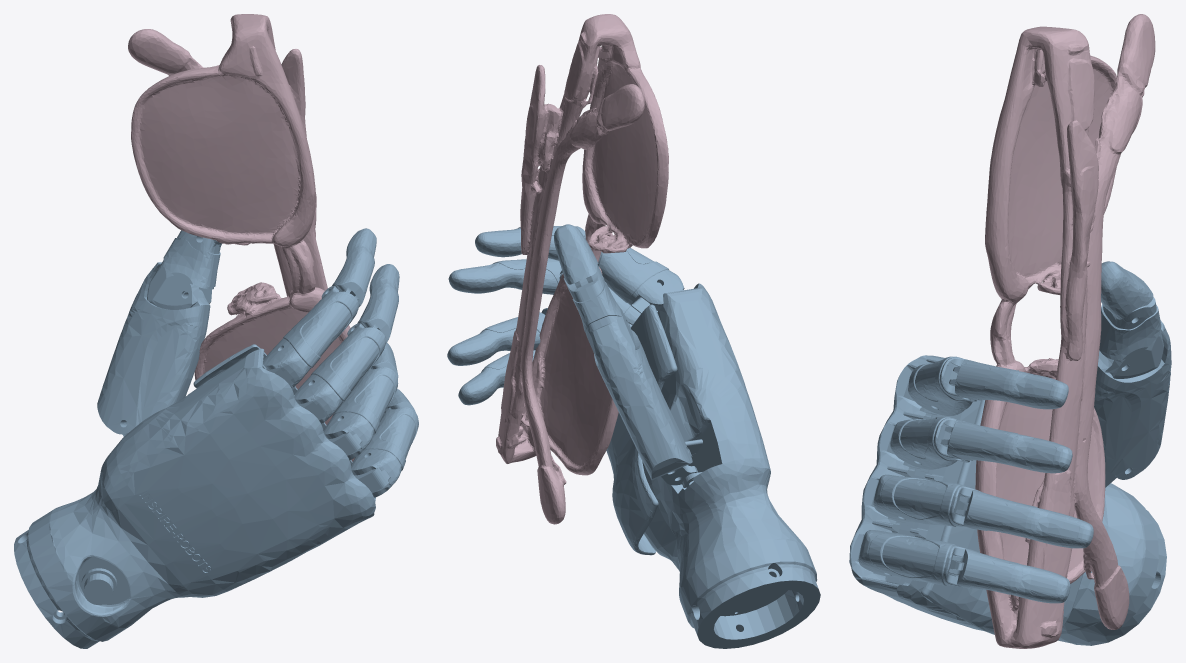
The picture shows the model from 3 angles, left to right: view 1: azimuth 30°, elevation 25°; view 2: azimuth 150°, elevation 25°; view 3: azimuth 270°, elevation 25°; orthographic projection. The views are drawn at different scales.
Visible parts, largest first — view 1: world, obj_mesh_grasp_5.obj; view 2: world, obj_mesh_grasp_5.obj; view 3: world, obj_mesh_grasp_5.obj.
Part boxes in pixels (left/top/right/bottom): world: left=14, top=228, right=418, bottom=648; obj_mesh_grasp_5.obj: left=128, top=14, right=354, bottom=461; world: left=447, top=224, right=820, bottom=648; obj_mesh_grasp_5.obj: left=496, top=14, right=668, bottom=524; world: left=849, top=261, right=1171, bottom=645; obj_mesh_grasp_5.obj: left=975, top=14, right=1155, bottom=648.
Size of the model in its own units: 0.1686 by 0.2569 by 0.1069.
